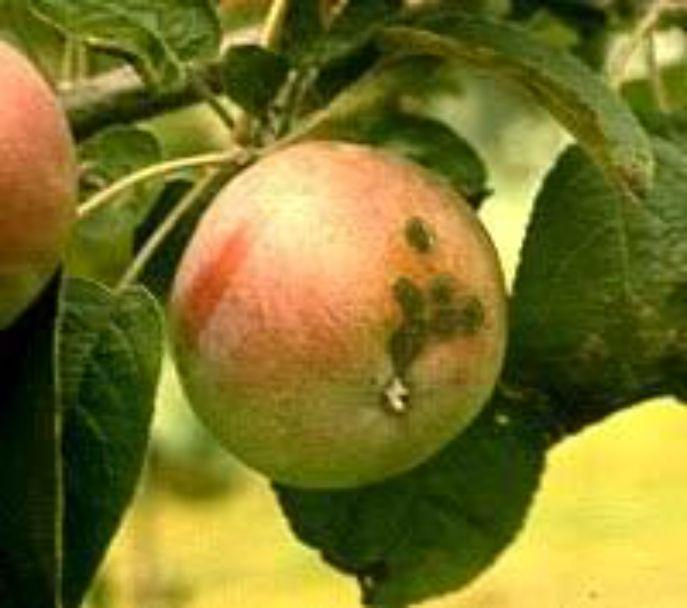SCAB: (179, 108, 546, 488)
